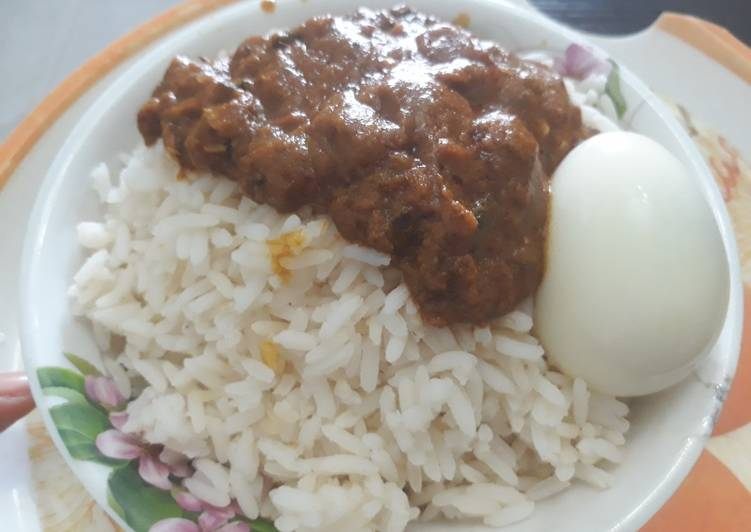curry: (151, 7, 586, 296)
egg: (530, 126, 730, 391)
rice: (106, 164, 586, 532)
